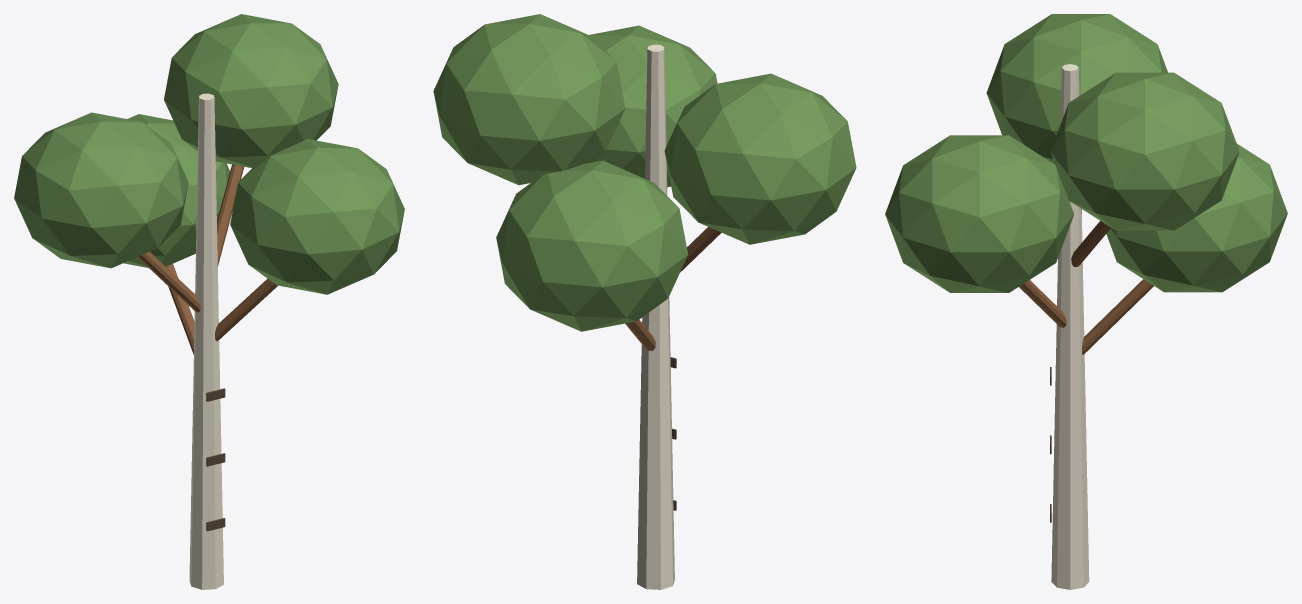
Rendered from Birch_Tree_A.glb.
3 views of the same model, side by side, from view 1: azimuth 30°, elevation 25°; view 2: azimuth 150°, elevation 25°; view 3: azimuth 270°, elevation 25° (orthographic). The views are drawn at different scales.
Visible parts, largest first — view 1: Birch_Tree_A; view 2: Birch_Tree_A; view 3: Birch_Tree_A.
Part boxes in pixels (<box>): Birch_Tree_A: <box>14,14,404,589</box>; Birch_Tree_A: <box>433,14,856,589</box>; Birch_Tree_A: <box>885,14,1287,589</box>.
Bounding box in the file's own units: 2.11 × 3.17 × 2.13.
